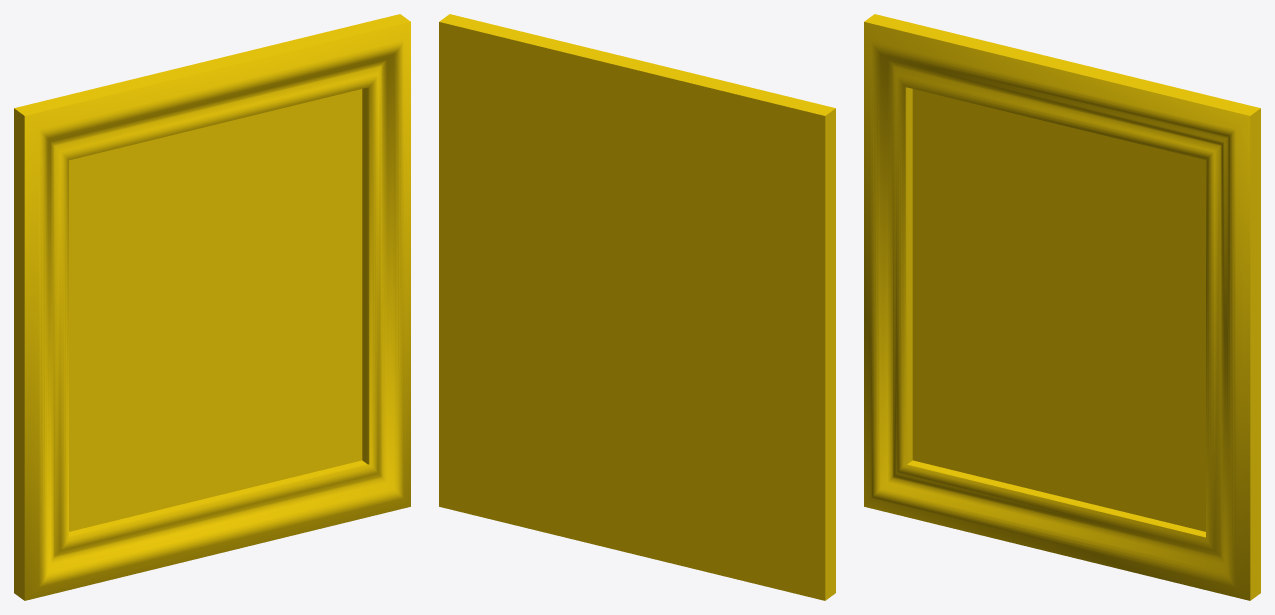
The model's file is picture_frame_1.glb.
3 renders of one model, left to right at view 1: azimuth 30°, elevation 25°; view 2: azimuth 150°, elevation 25°; view 3: azimuth 330°, elevation 25°, orthographic.
Visible parts, largest first — view 1: Object_2; view 2: Object_2; view 3: Object_2.
Part boxes in pixels (x1,y1,x2,y2): Object_2: (14,14,410,600); Object_2: (439,14,835,600); Object_2: (864,14,1260,600).
Bounding box in the file's own units: 5 × 6 × 0.334.
